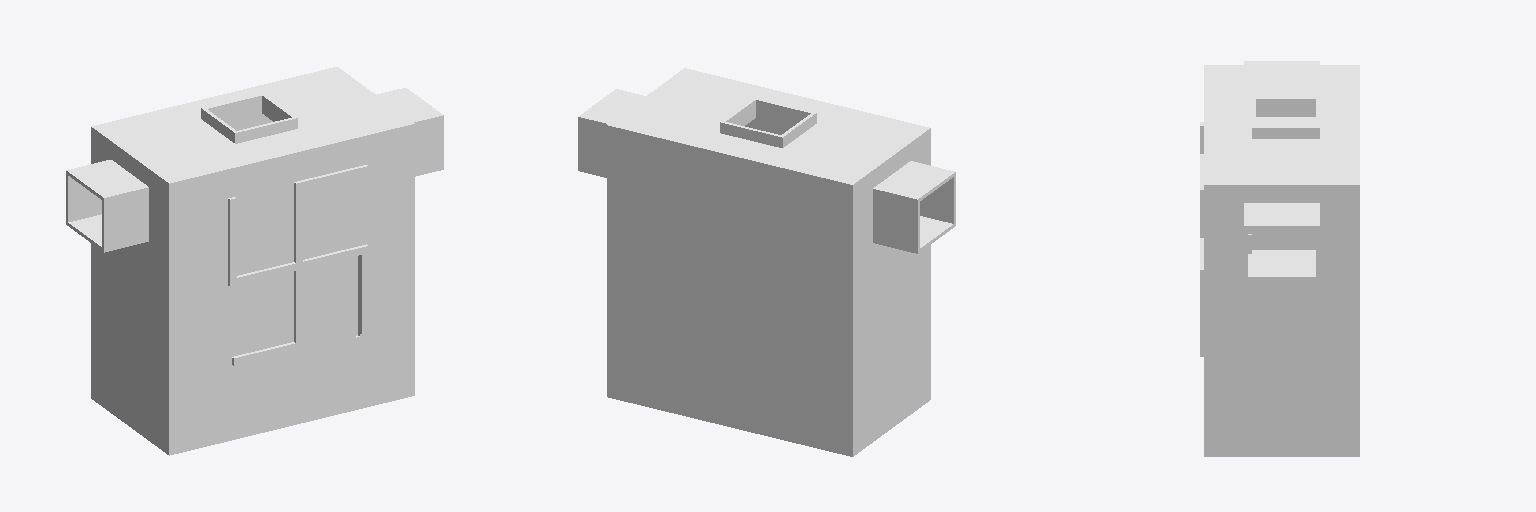
File: LegendaryRustning.obj
The picture shows the model from 3 angles: view 1: azimuth 30°, elevation 25°; view 2: azimuth 150°, elevation 25°; view 3: azimuth 270°, elevation 25°; orthographic projection.
Bounding box in the file's own units: 98 × 78 × 40.